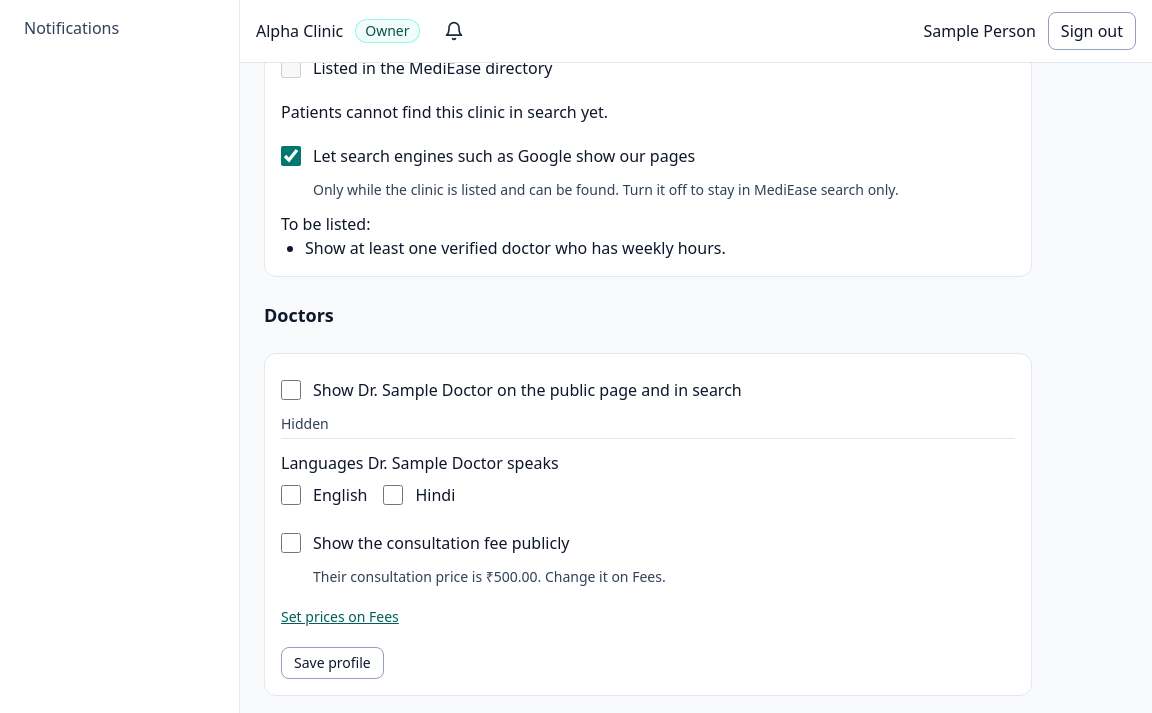
the directory listing (M6c-P4, clinic-onboarding R50-R55) › M6d-P1 (D8): shows the consultation price from Fees and sends only whether to show it
(page scrolled)
Check: the text "Their consultation price is ₹500.00. Change it on Fees." is shown, box [313,567,666,586]
Click the checkbox labelled "Hindi". click: {"x": 393, "y": 495}
box: [383,485,403,505]
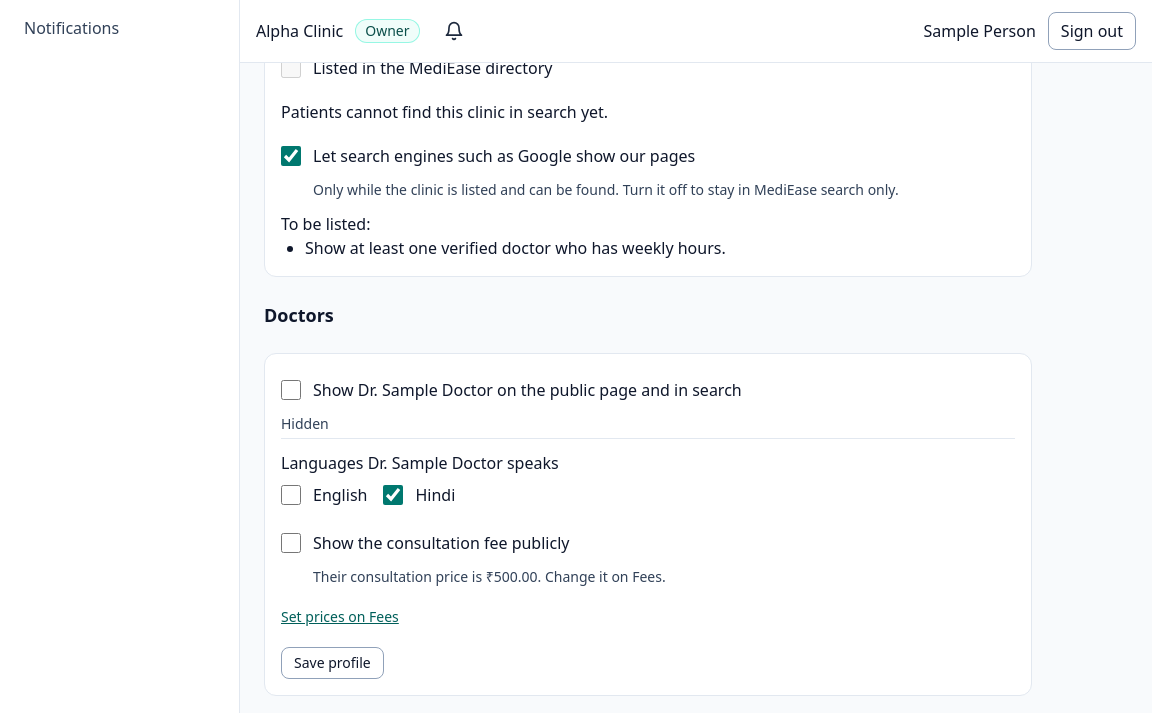
Click the checkbox labelled "Show the consultation fee publicly". click: {"x": 291, "y": 543}
box: [281,533,301,553]
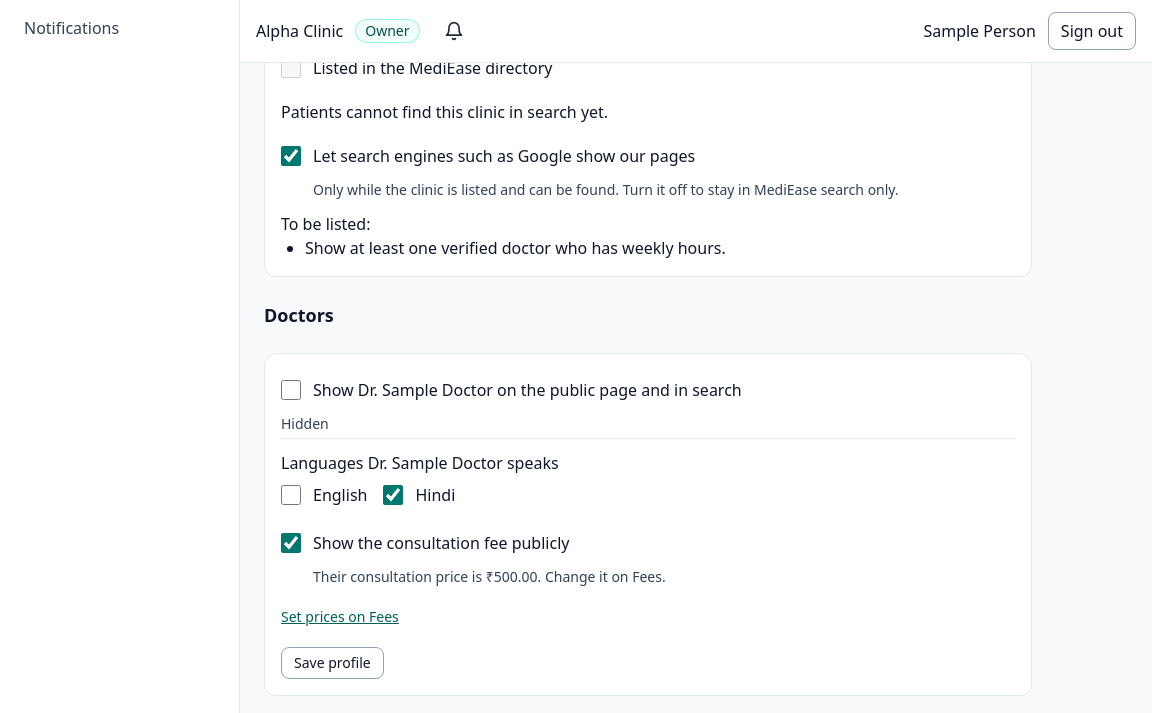
Click the button "Save profile". click: {"x": 332, "y": 663}
box: [281,647,384,679]
(page scrolled)
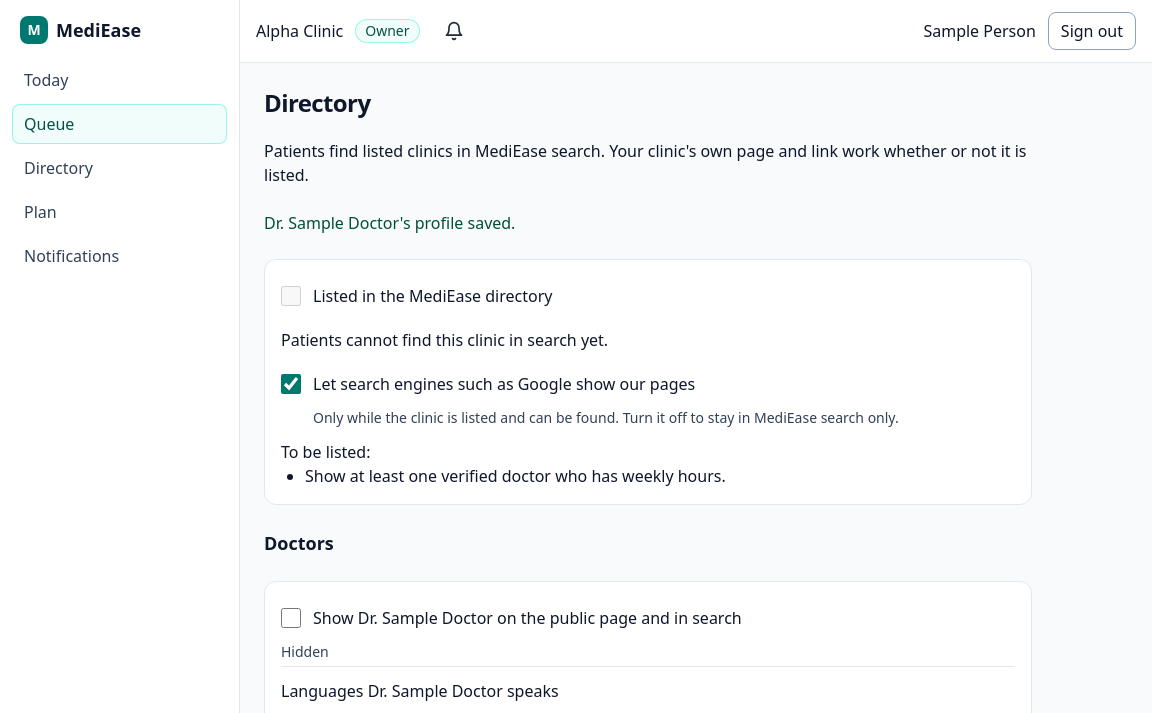
Check: the text "Dr. Sample Doctor's profile saved." is shown, box [264,212,515,234]
